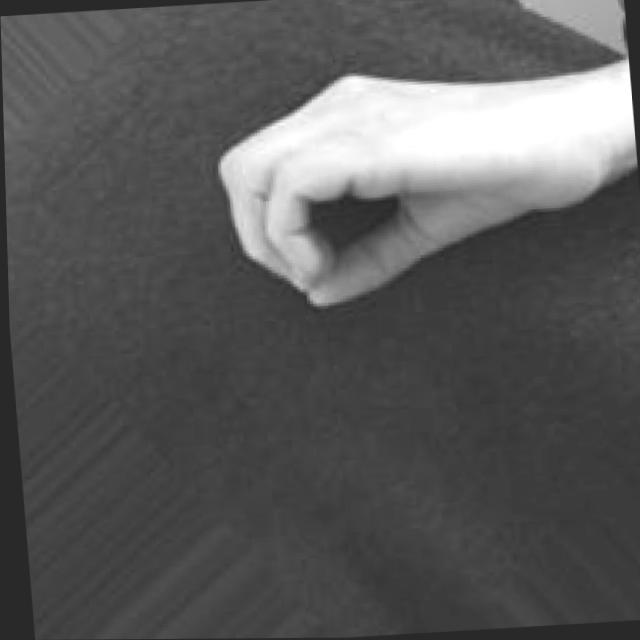O: (205, 52, 624, 322)
